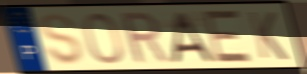A: (170, 10, 217, 65)
E: (202, 8, 254, 65)
K: (246, 10, 291, 62)
O: (82, 11, 126, 66)
R: (117, 10, 172, 66)
S: (39, 11, 85, 66)
